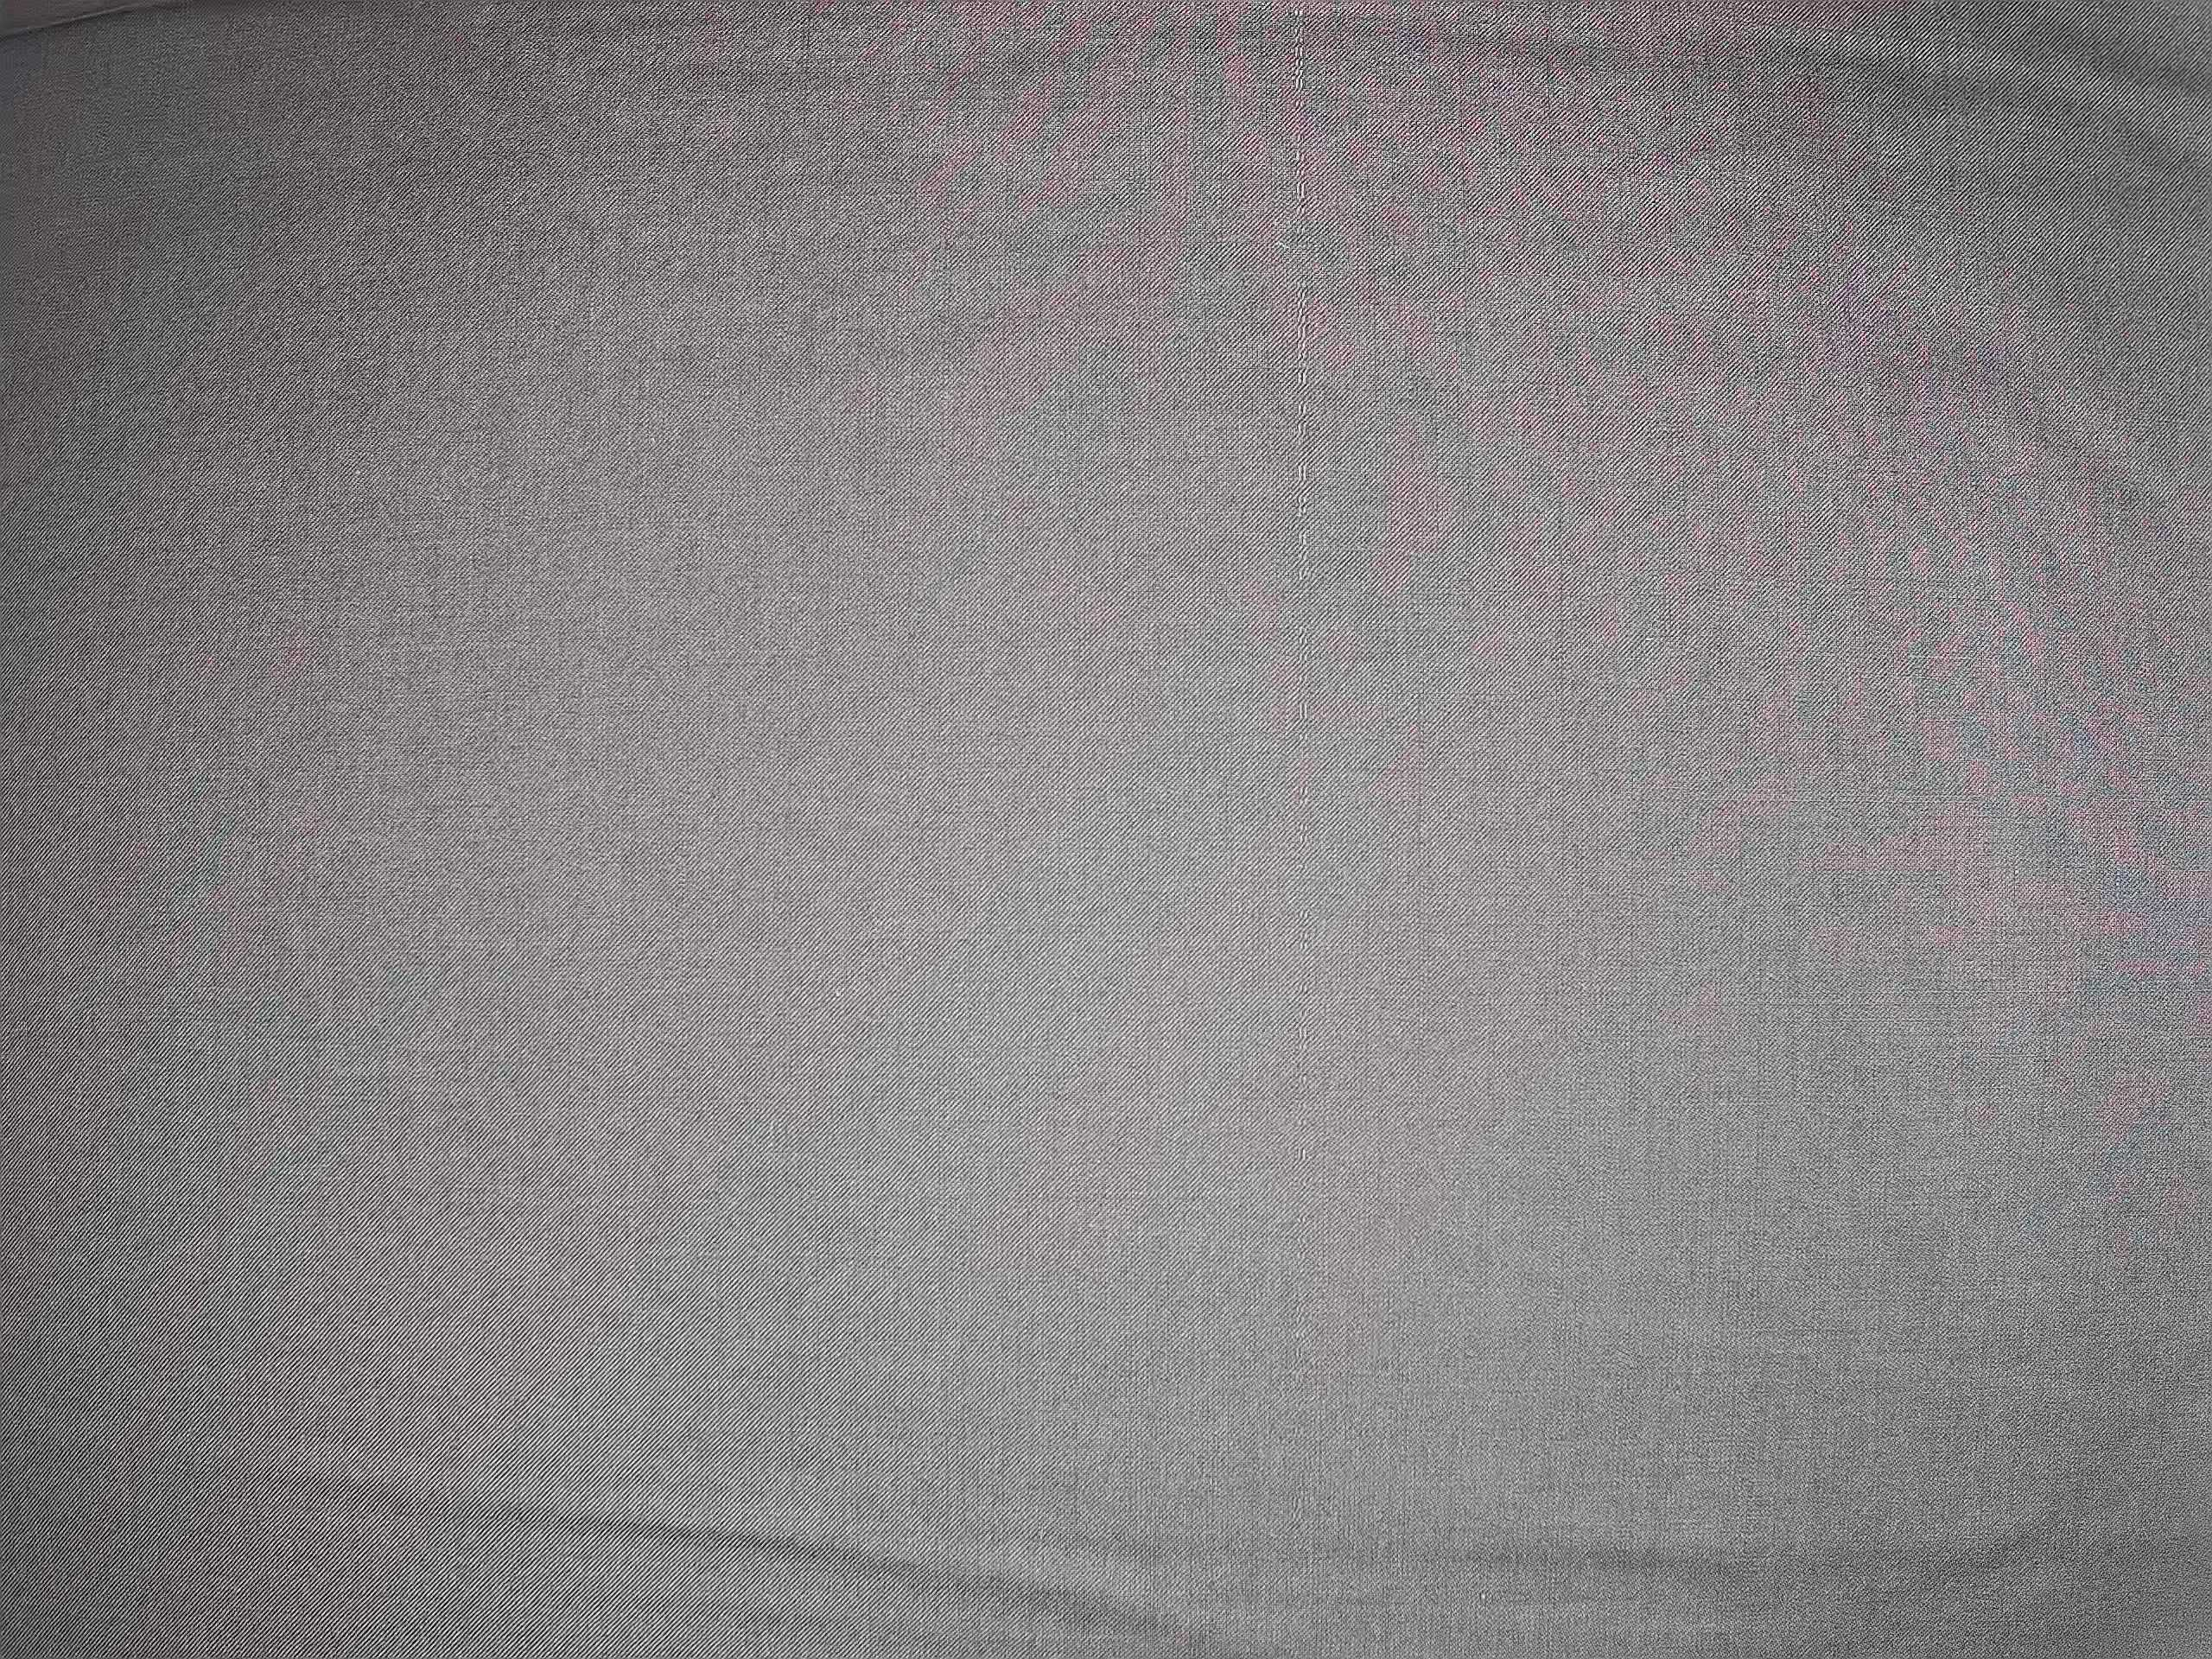jumps: (1278, 0, 1320, 1328)
